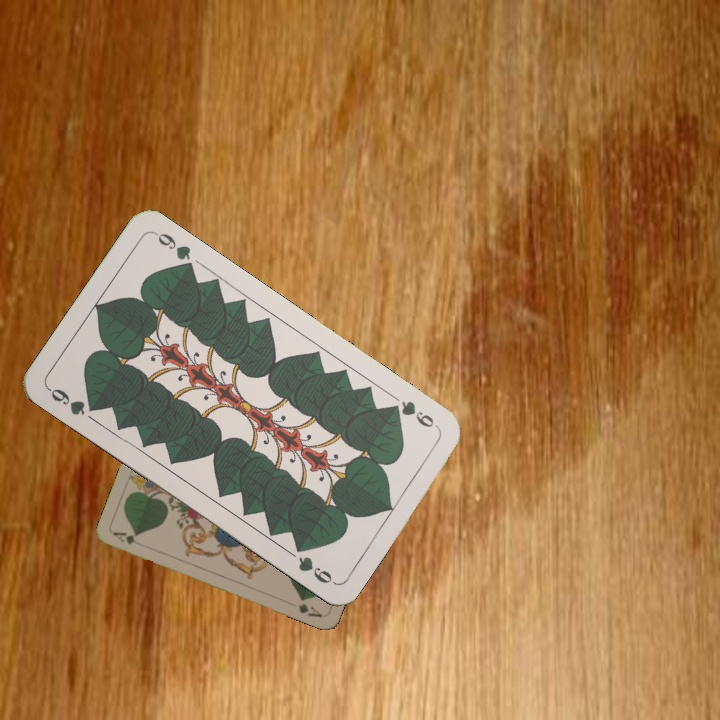G9: (44, 384, 102, 419), (384, 397, 441, 431)
GA: (109, 528, 149, 550)
